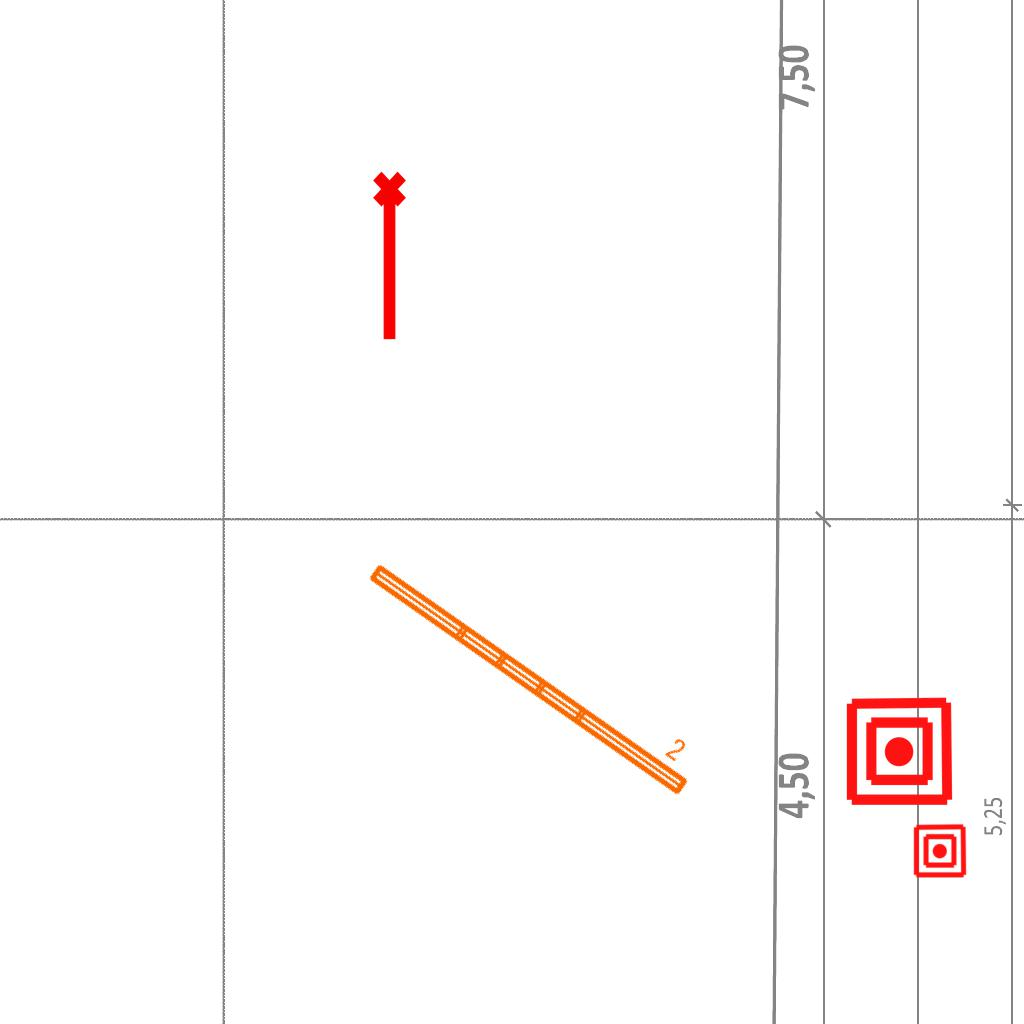ASR_Ansaugoeffnung: (369, 169, 415, 345)
Ambulanz_Pendelleuchte_LED: (360, 535, 711, 803)
NAM-Nichtautomatischer_Melder: (843, 695, 956, 808), (912, 823, 968, 879)
